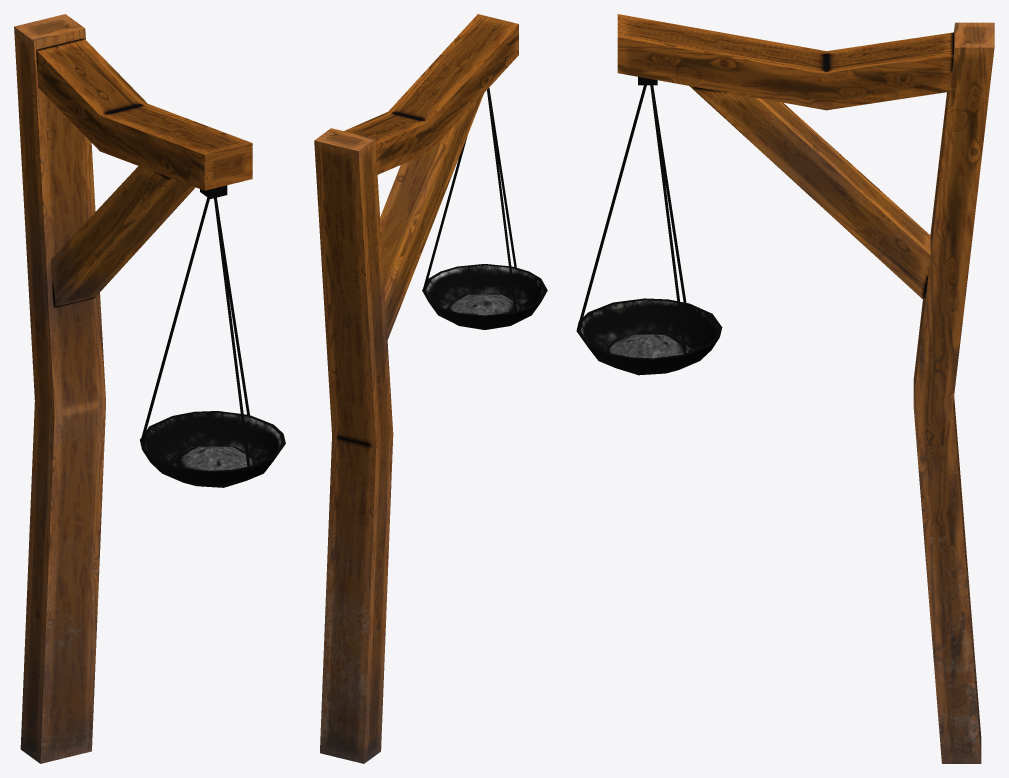
The model's file is LightColumn_animated.FBX.
3 renders of one model, left to right at view 1: azimuth 30°, elevation 25°; view 2: azimuth 150°, elevation 25°; view 3: azimuth 270°, elevation 25°, orthographic. The views are drawn at different scales.
Visible parts, largest first — view 1: LightColumn_animated, FireBowl; view 2: LightColumn_animated, FireBowl; view 3: LightColumn_animated, FireBowl.
Part boxes in pixels (x1,y1,x2,y2): LightColumn_animated: (14,14,252,763); FireBowl: (140,197,285,487); LightColumn_animated: (314,14,518,763); FireBowl: (422,88,547,329); LightColumn_animated: (617,14,994,763); FireBowl: (576,85,722,375).
Size of the model in its own units: 55.37 by 304 by 159.
